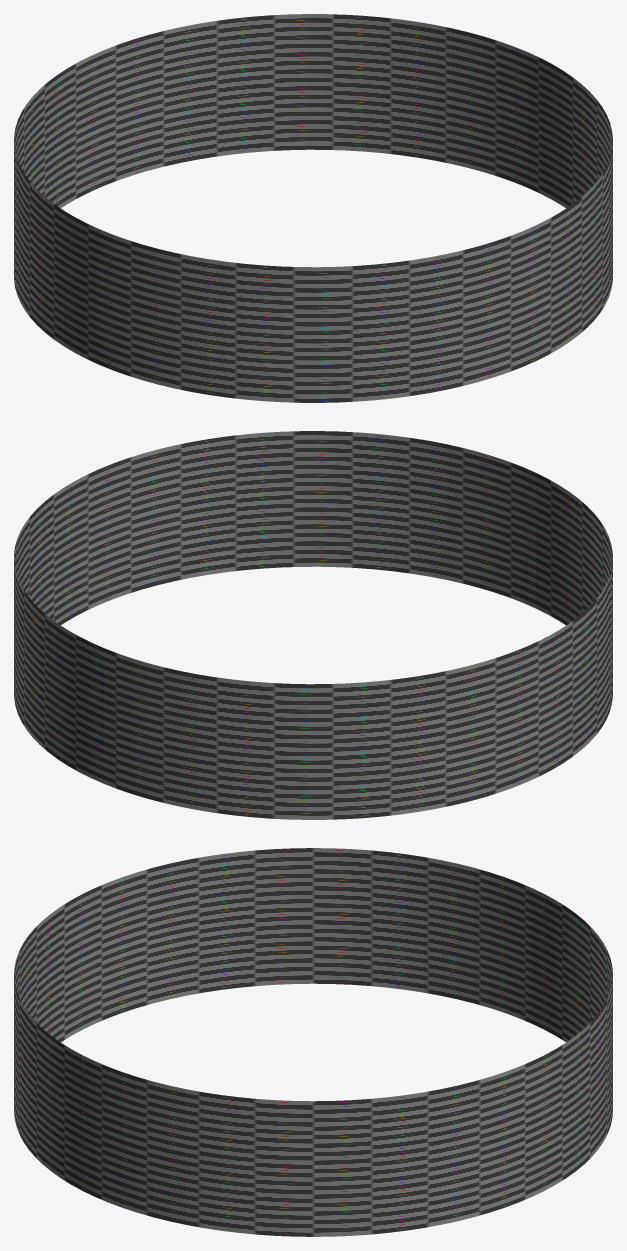
Rendered from test-torus-fancy.glb.
3 renders of one model, top to bottom at view 1: azimuth 30°, elevation 25°; view 2: azimuth 150°, elevation 25°; view 3: azimuth 270°, elevation 25°, orthographic.
Parts seen in each view (by area): view 1: Cylinder; view 2: Cylinder; view 3: Cylinder.
Boxes of the visible parts, box(x1,y1,x2,y2) form: Cylinder: box(14, 14, 612, 402); Cylinder: box(14, 431, 612, 819); Cylinder: box(14, 848, 612, 1236).
Size of the model in its own units: 2 by 0.5 by 2.
1 material, 1 textured.
